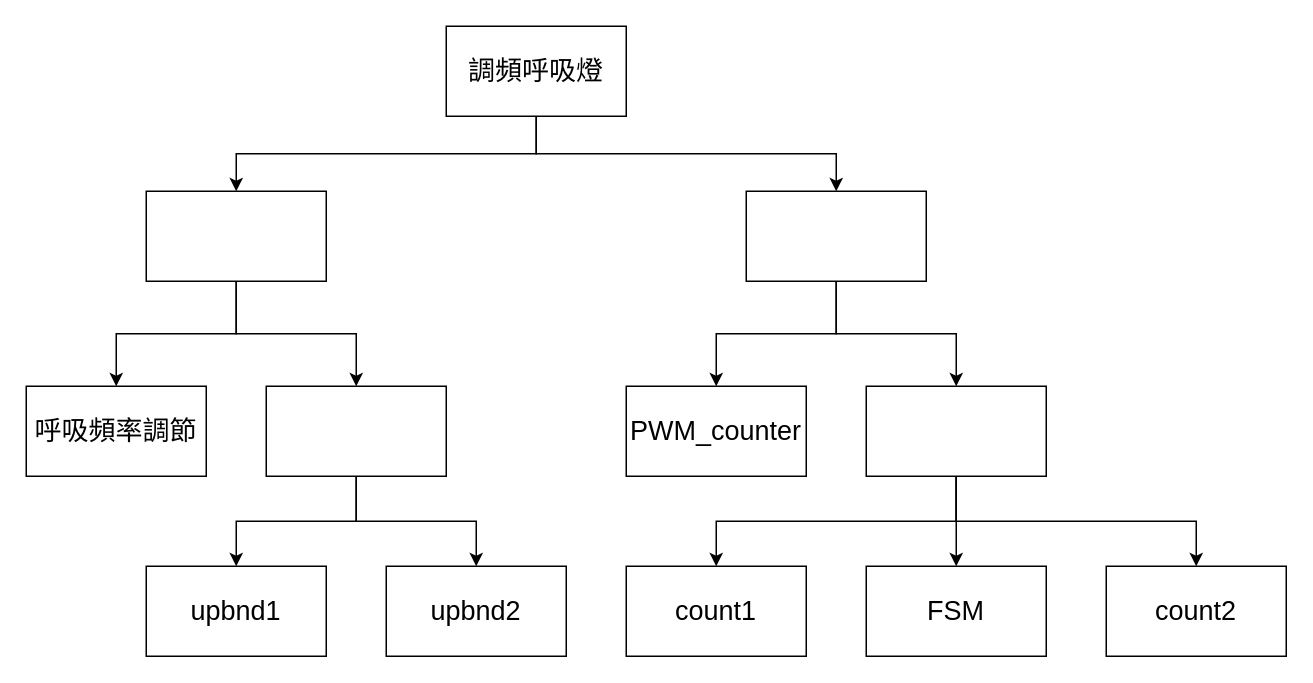
The diagram is 1313 pixels wide and 683 high, and some of its shapes have lost their labels. The shapes that lost their labels are listed below. From the top down, each one's box as (x1, y1, x2, y2) in pixels, then its label:
(145, 190, 326, 281): duty_cycle
(745, 190, 926, 281): PWM
(265, 385, 446, 476): 調變
(865, 385, 1046, 476): 輪流計數
